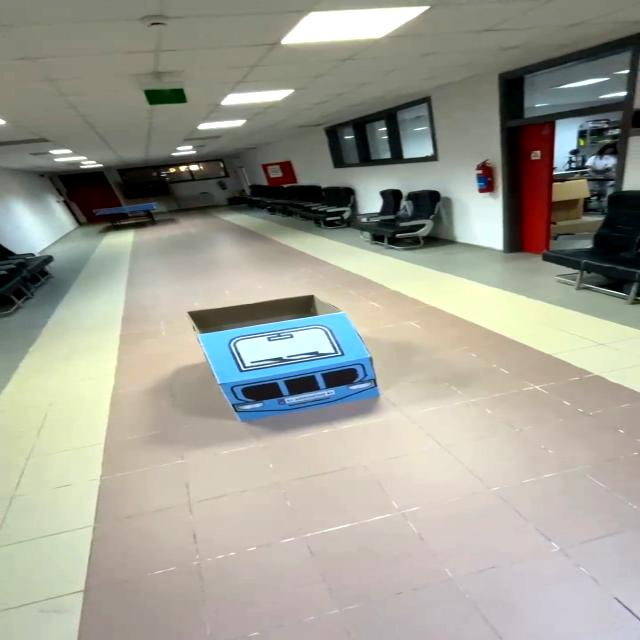blue_car: (176, 278, 395, 431)
